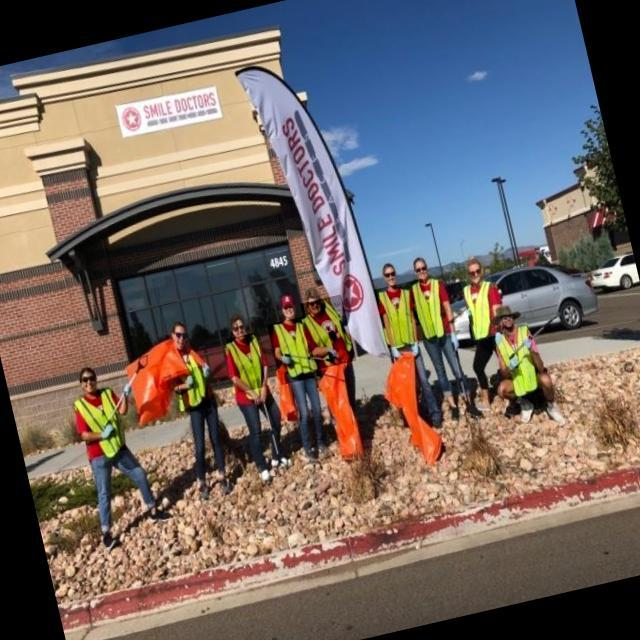Safety Vest: (486, 313, 546, 412), (374, 279, 436, 349), (301, 294, 357, 370), (267, 314, 324, 385), (79, 387, 128, 457), (460, 272, 505, 340), (405, 281, 450, 342), (226, 332, 267, 392), (176, 365, 211, 413)
